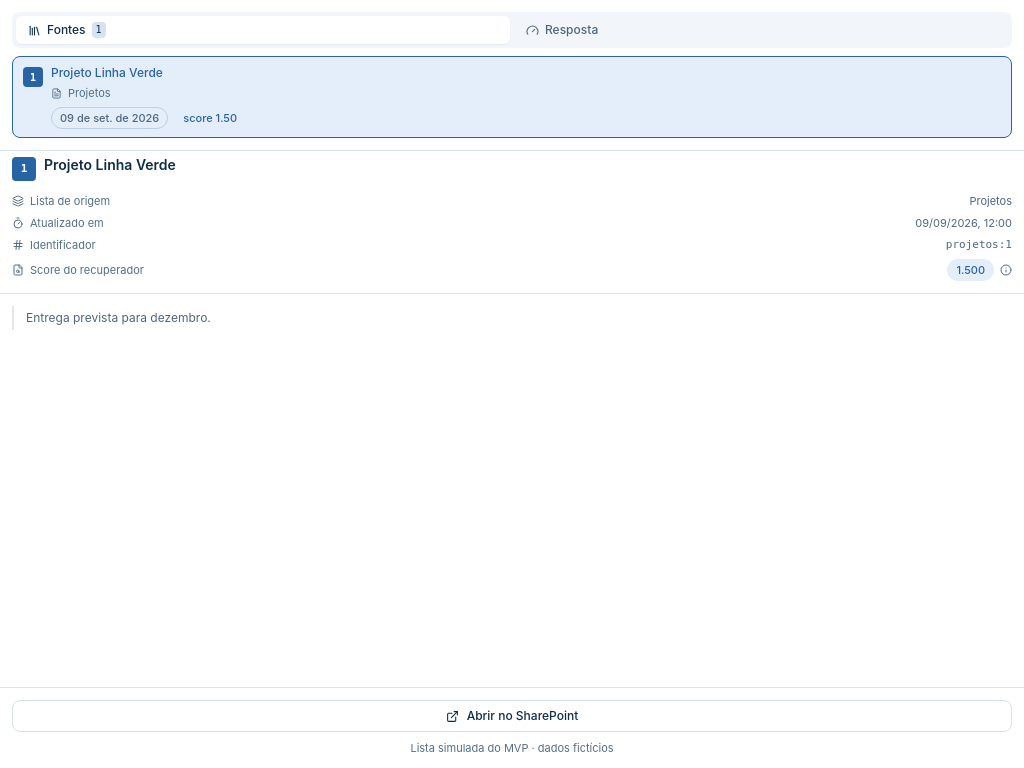
Test: Documentos e conversas › DocumentPanel navega entre fontes e métricas no modo técnico
Click the tab "Resposta": click(572, 30) [514,16,1008,44]
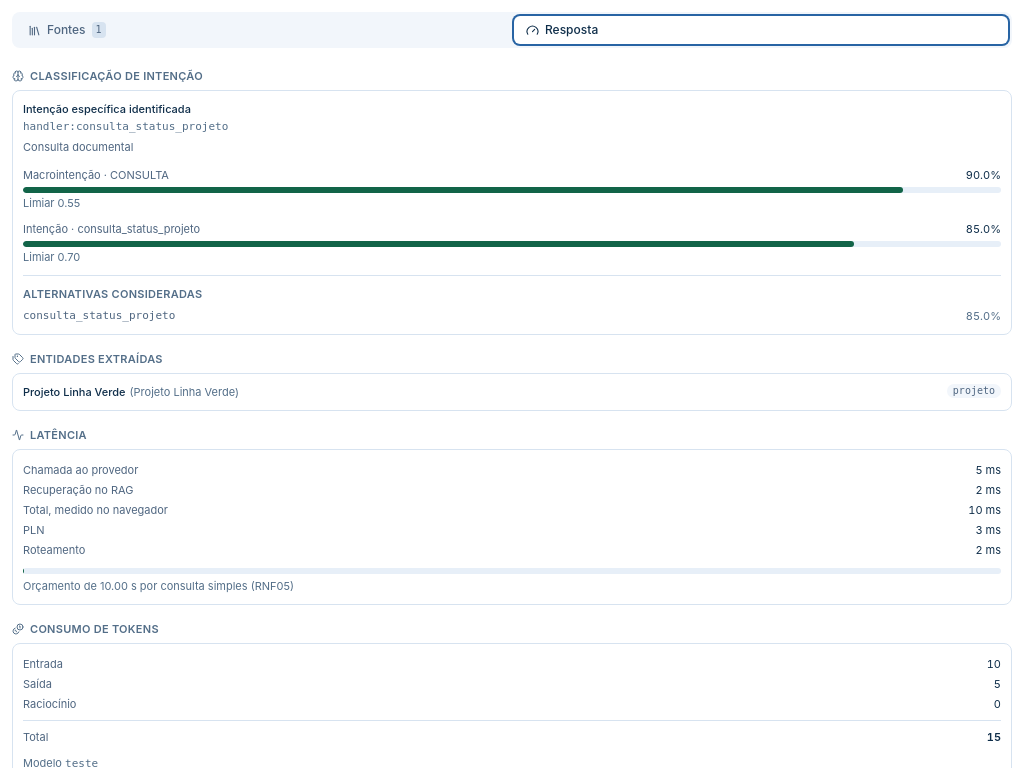
Expected: the text "teste" is shown, [65,757,98,767]
Expected: the heading "Entidades extraídas" is shown, [12,352,163,366]
Expected: the text "(Projeto Linha Verde)" is shown, [126,385,239,399]
